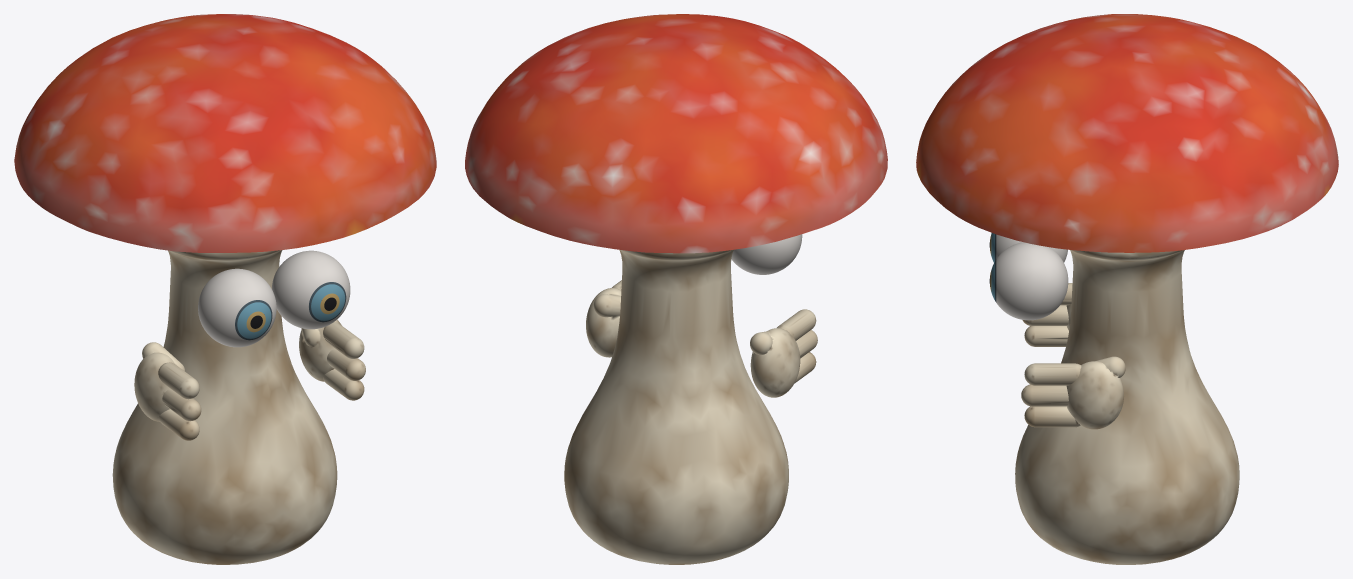
Rendered from amanita-scout.glb.
3 renders of one model, left to right at view 1: azimuth 30°, elevation 25°; view 2: azimuth 150°, elevation 25°; view 3: azimuth 270°, elevation 25°, orthographic.
Visible parts, largest first — view 1: amanita_scout, eye.1, eye.0, hand.1, hand.0; view 2: amanita_scout, hand.1, hand.0, eye.1; view 3: amanita_scout, hand.0, eye.0, hand.1, eye.1.
Boxes of the visible parts, x1=… form: amanita_scout: x1=14, y1=14, x2=436, y2=564; eye.1: x1=198, y1=268, x2=276, y2=347; eye.0: x1=272, y1=250, x2=350, y2=329; hand.1: x1=134, y1=342, x2=201, y2=440; hand.0: x1=299, y1=319, x2=365, y2=400; amanita_scout: x1=465, y1=14, x2=887, y2=564; hand.1: x1=750, y1=309, x2=817, y2=397; hand.0: x1=586, y1=280, x2=621, y2=357; eye.1: x1=731, y1=234, x2=802, y2=274; amanita_scout: x1=916, y1=14, x2=1338, y2=564; hand.0: x1=1021, y1=356, x2=1125, y2=429; eye.0: x1=989, y1=242, x2=1068, y2=320; hand.1: x1=1022, y1=283, x2=1072, y2=346; eye.1: x1=989, y1=233, x2=1067, y2=262.
Size of the model in its own units: 1.29 by 1.68 by 1.29.
